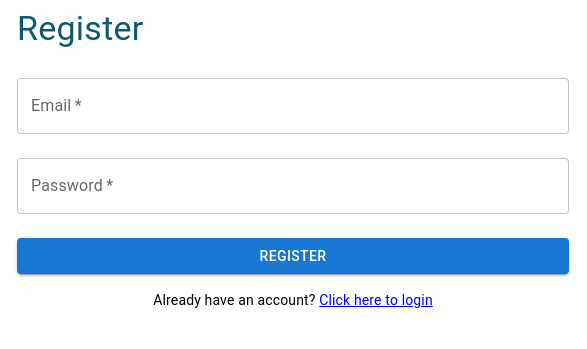
Test: Register Page › shows error message on failed registration
The image size is (587, 349).
Type "failuser@example.com" into the field labelled "Email *" at (293, 106), box [17,78,569,134]
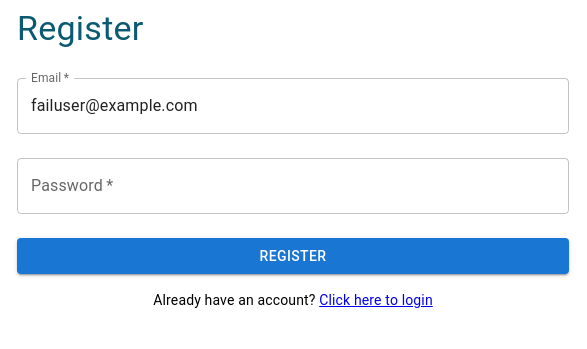
Type "failpass" into the password field labelled "Password *" at (293, 186), box [17,158,569,214]
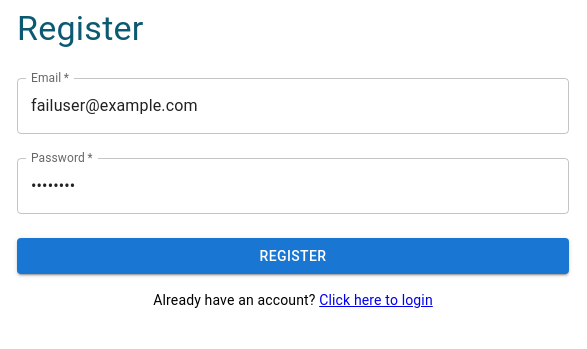
Click the button "Register" at (293, 256), box [17,238,569,274]
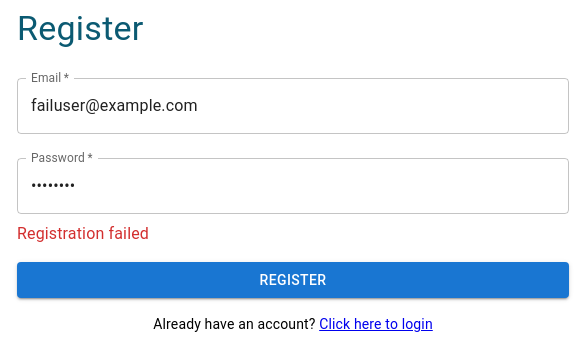
Expected: the text "Registration failed" is shown, [17,224,149,243]
